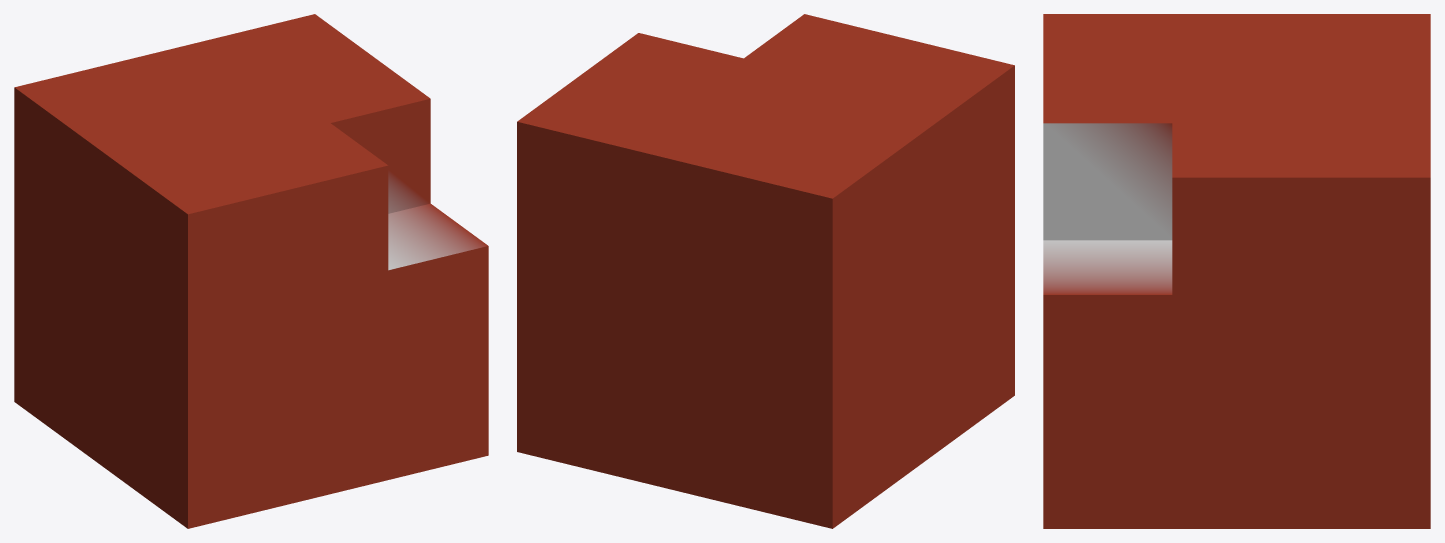
Rendered from babylon-cube.glb.
3 views of the same model, side by side, from view 1: azimuth 30°, elevation 25°; view 2: azimuth 150°, elevation 25°; view 3: azimuth 270°, elevation 25° (orthographic). The views are drawn at different scales.
Visible parts, largest first — view 1: BabylonCube; view 2: BabylonCube; view 3: BabylonCube.
Part boxes in pixels (box(x1,y1,x2,y2)): BabylonCube: box(14, 14, 488, 528); BabylonCube: box(517, 14, 1014, 528); BabylonCube: box(1043, 14, 1430, 528).
Size of the model in its own units: 1 by 1 by 1.
